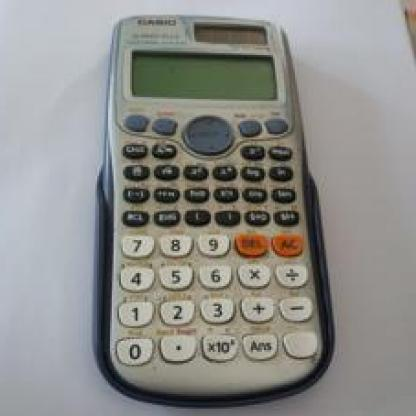calculator: (98, 12, 334, 408)
